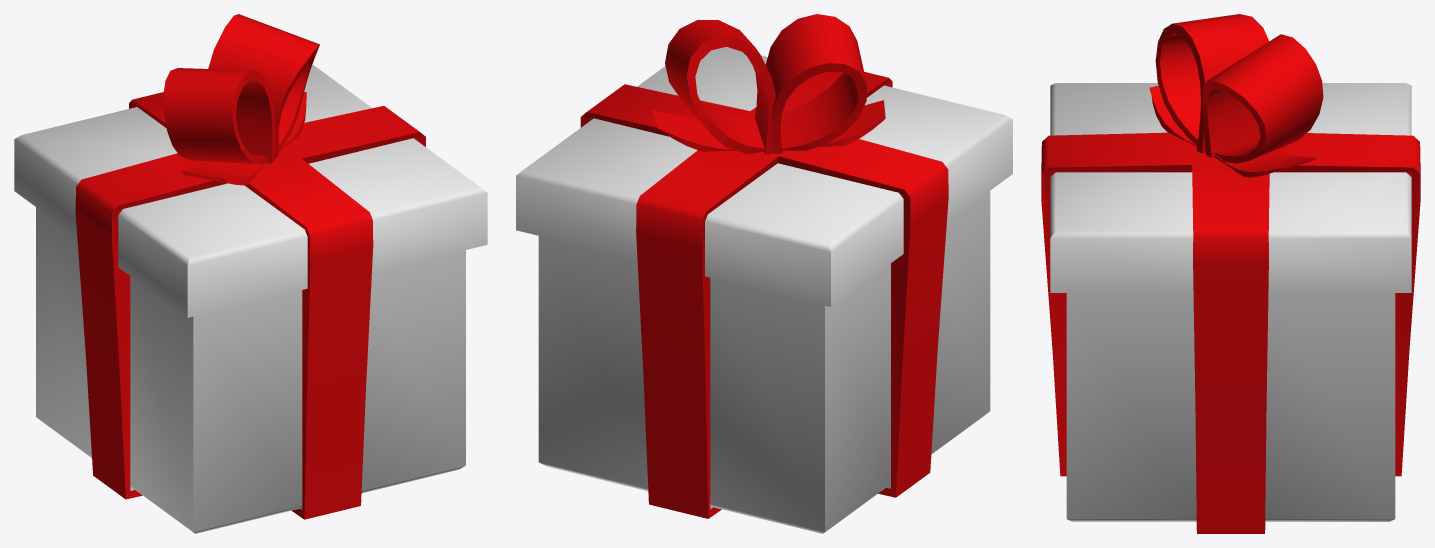
File: present.fbx
The picture shows the model from 3 angles, left to right: view 1: azimuth 30°, elevation 25°; view 2: azimuth 150°, elevation 25°; view 3: azimuth 270°, elevation 25°; orthographic projection. The views are drawn at different scales.
Parts seen in each view (by area): view 1: Gift, Bow; view 2: Gift, Bow; view 3: Gift, Bow.
Part boxes in pixels (x1,y1,x2,y2): Gift: (14,64,487,533); Bow: (163,14,319,185); Gift: (516,47,1012,533); Bow: (651,14,885,154); Gift: (1041,83,1420,533); Bow: (1149,14,1323,177).
Bounding box in the file's own units: 46.14 × 58.08 × 46.14.
